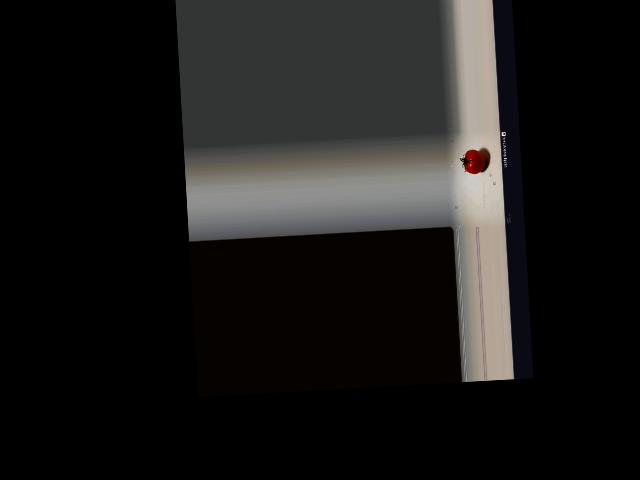tomato: (464, 149, 486, 174)
